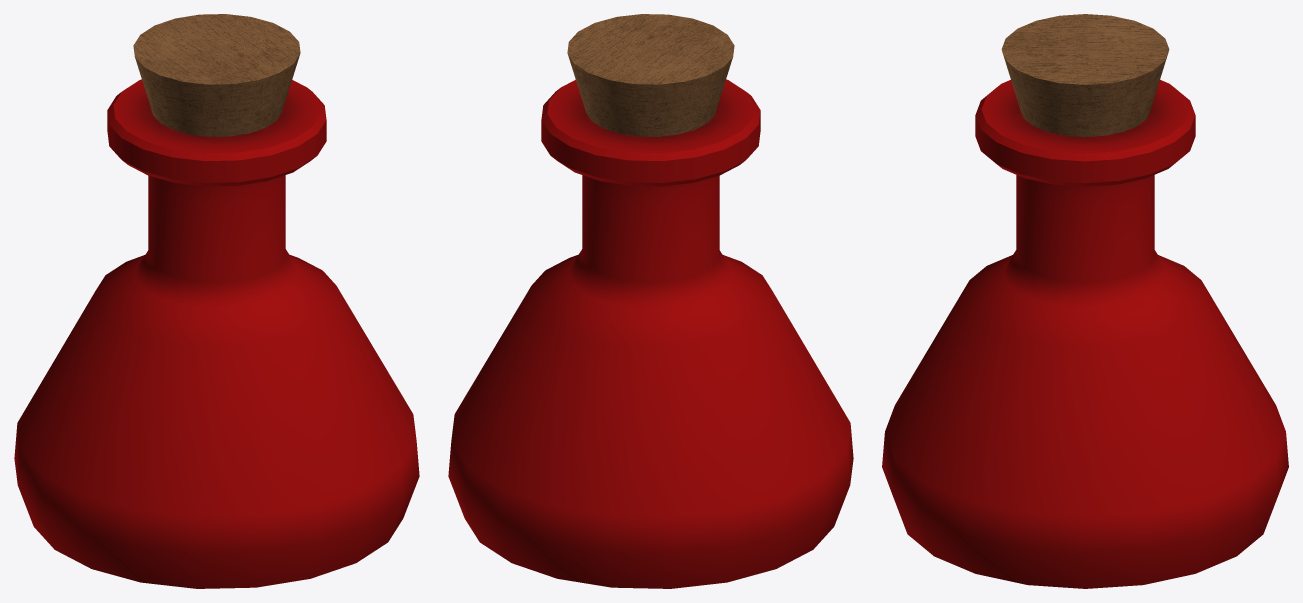
Rendered from healthpot.glb.
3 renders of one model, left to right at view 1: azimuth 30°, elevation 25°; view 2: azimuth 150°, elevation 25°; view 3: azimuth 270°, elevation 25°, orthographic.
Parts seen in each view (by area): view 1: Object_2; view 2: Object_2; view 3: Object_2.
Boxes of the visible parts, left/top/right/bottom form: Object_2: left=14, top=14, right=419, bottom=588; Object_2: left=448, top=14, right=853, bottom=588; Object_2: left=882, top=14, right=1288, bottom=588.
Bounding box in the file's own units: 6.33 × 7.9 × 6.33.
Materials: 1 (1 with a texture image).
